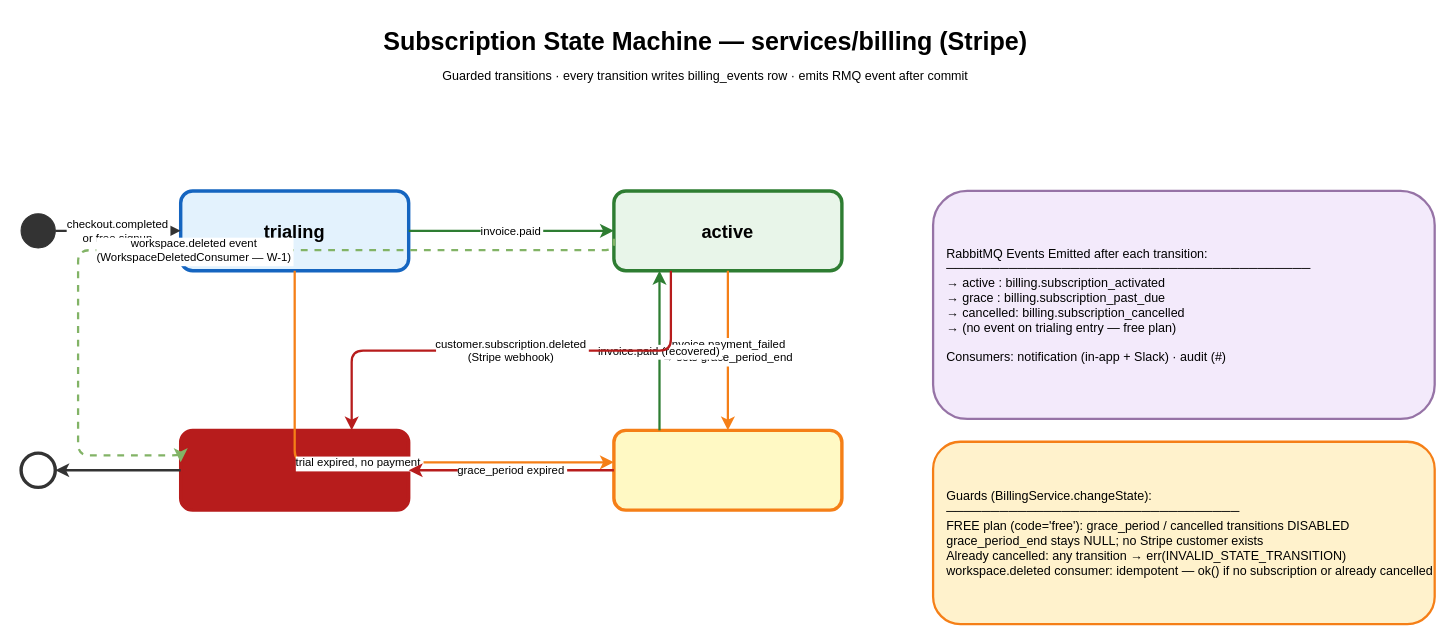
Image size: 1456x644. Some labels were removed from this diagram. The shapes that lost their labels are listed below. From the top down, each one's centre as x and y in pixels, then its label:
At [294,469]: "cancelled (TERMINAL)".
At [727,469]: "grace_period (PAST_DUE)".
